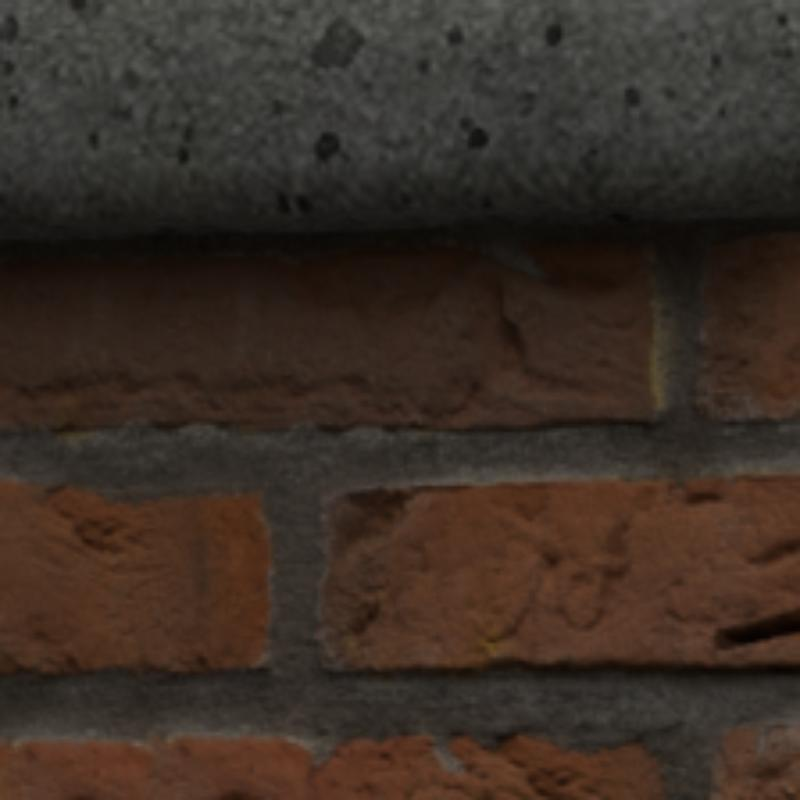pothole: (718, 611, 796, 643)
